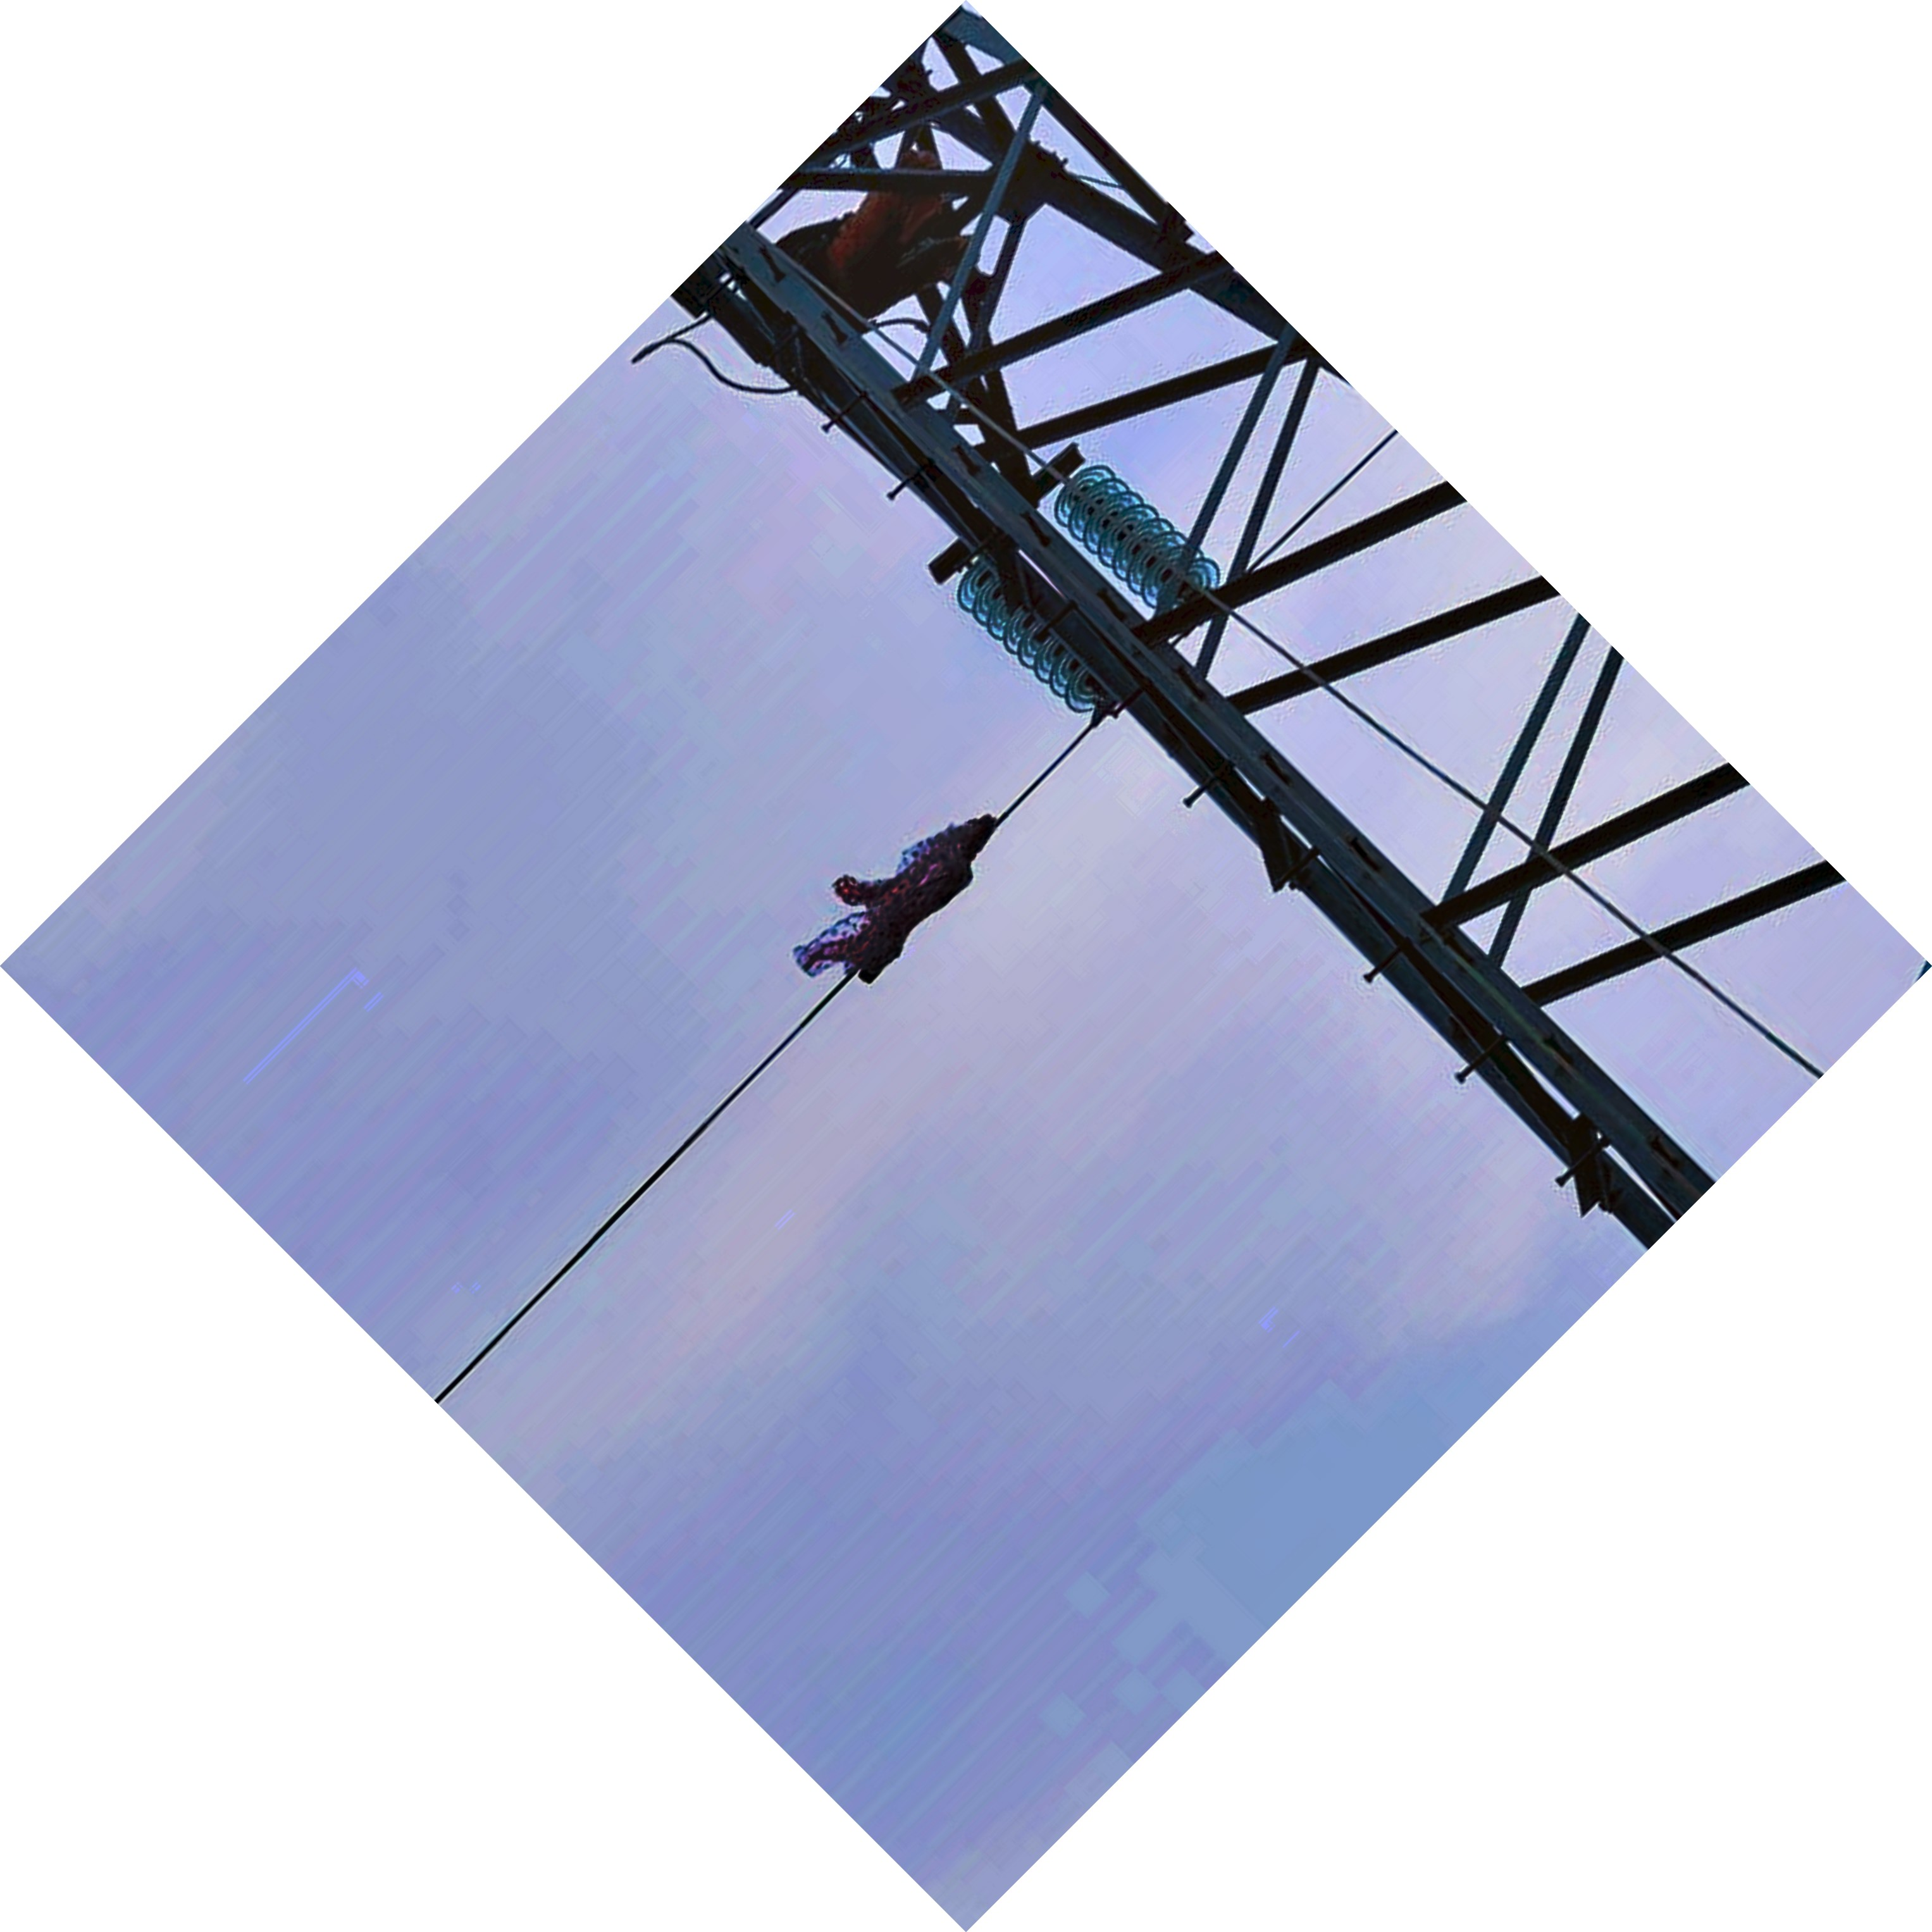wire foreign body: (777, 791, 1007, 1019)
